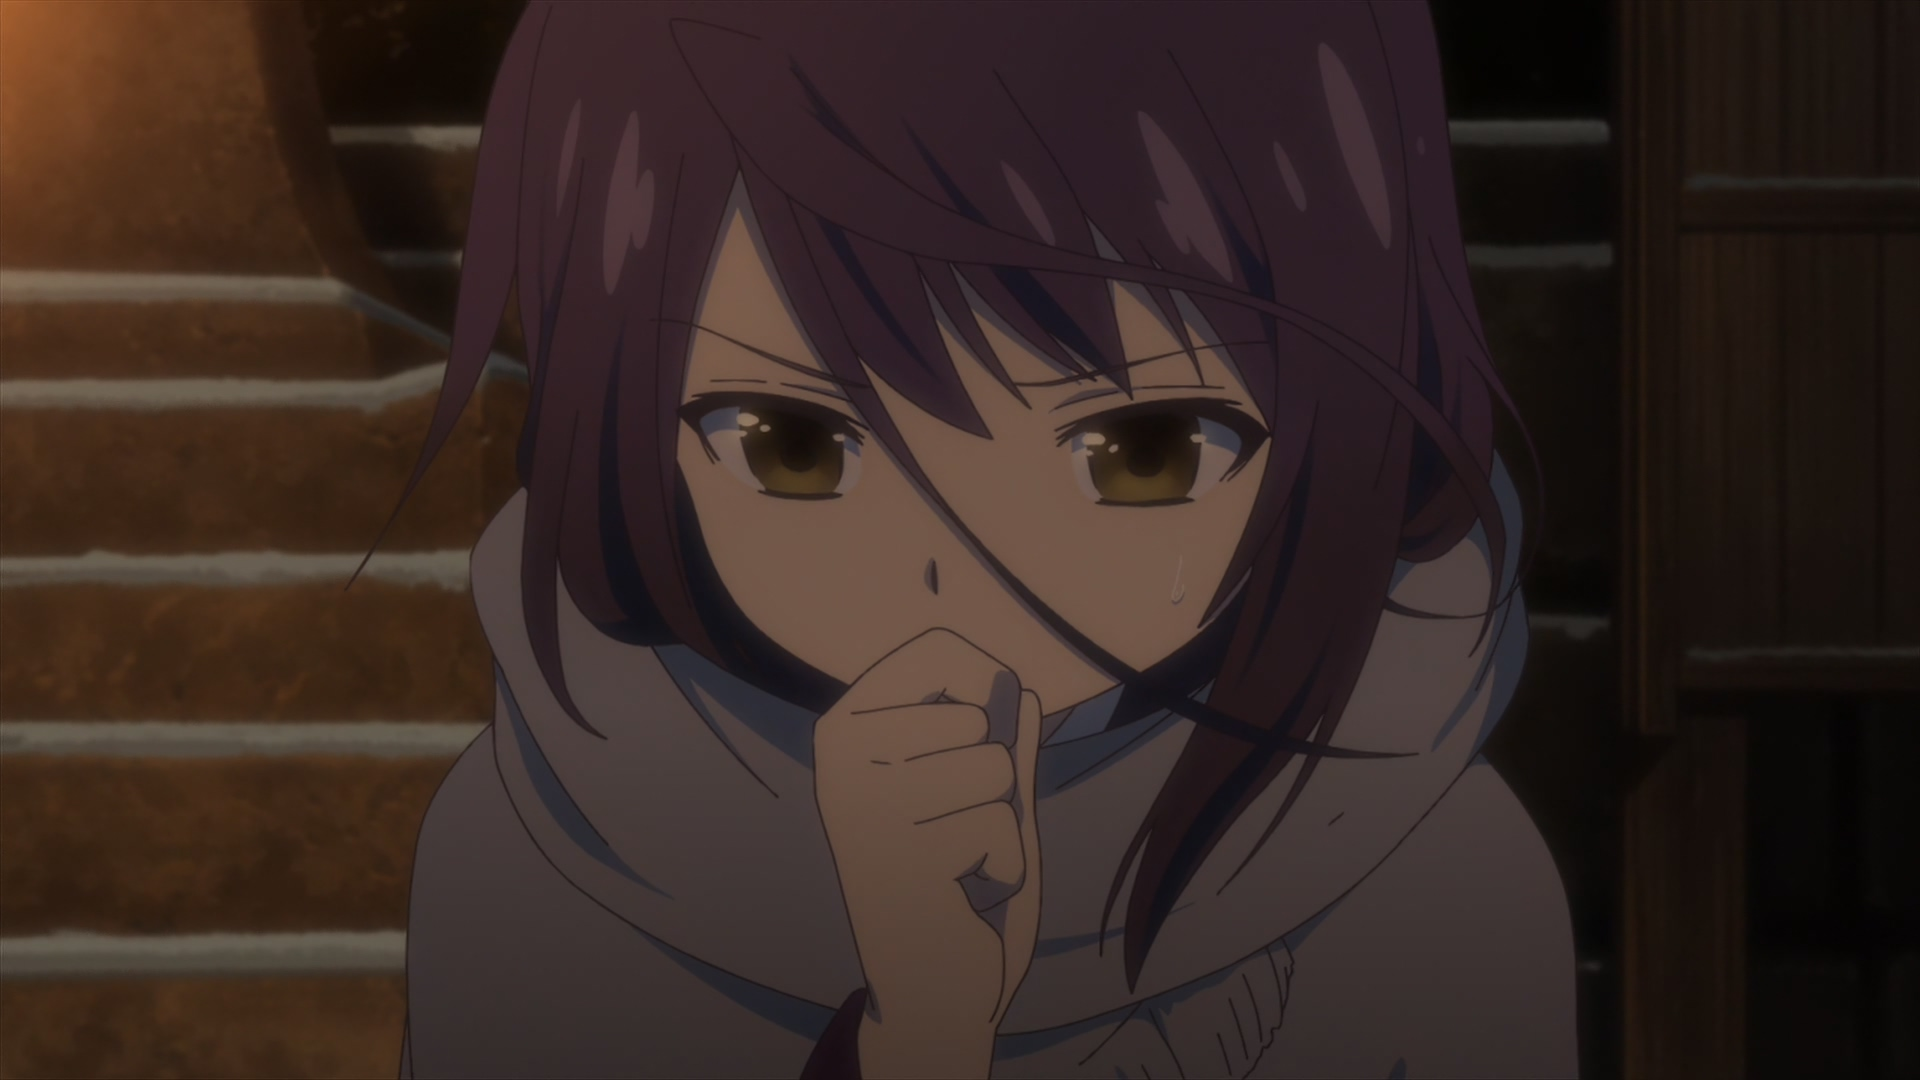皋: (349, 1, 1578, 1080)
